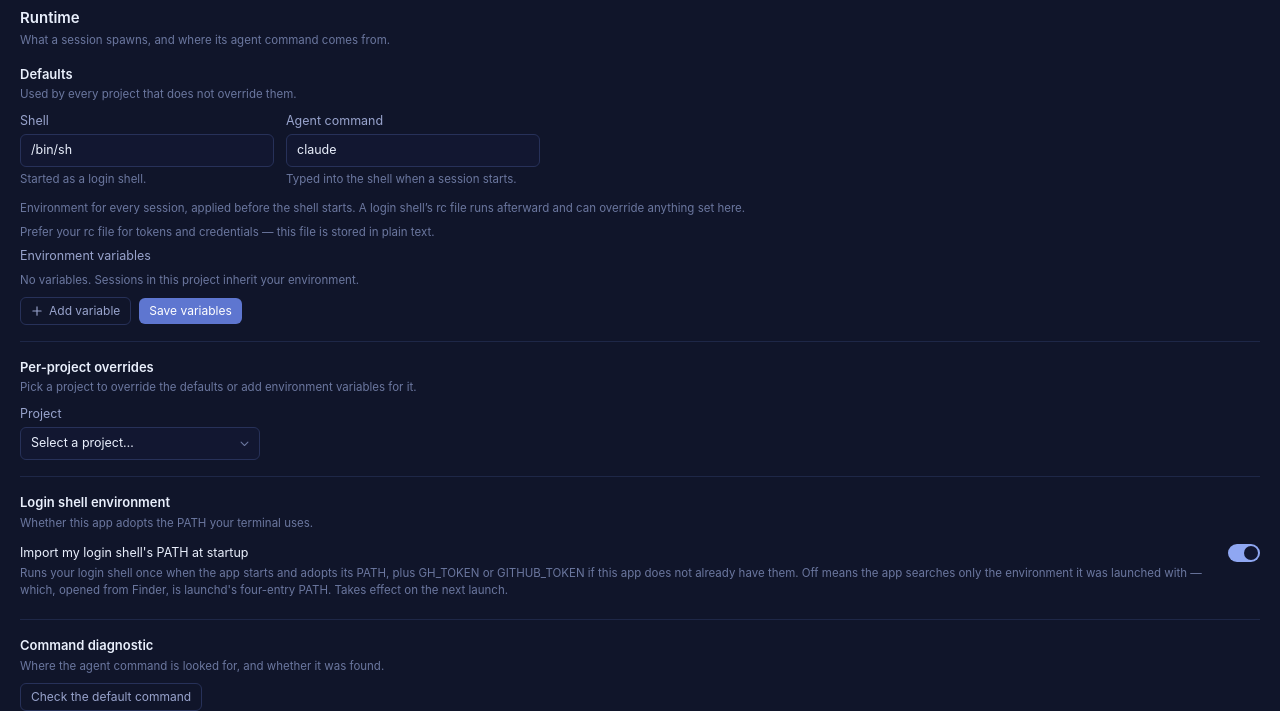
it: RuntimeSection — diagnostic › drops a stale verdict when the project changes
The image size is (1280, 711).
Select "a" in the dropdown labelled "Project" at (140, 444), box x1=20 y1=427 x2=260 y2=460
(page scrolled)
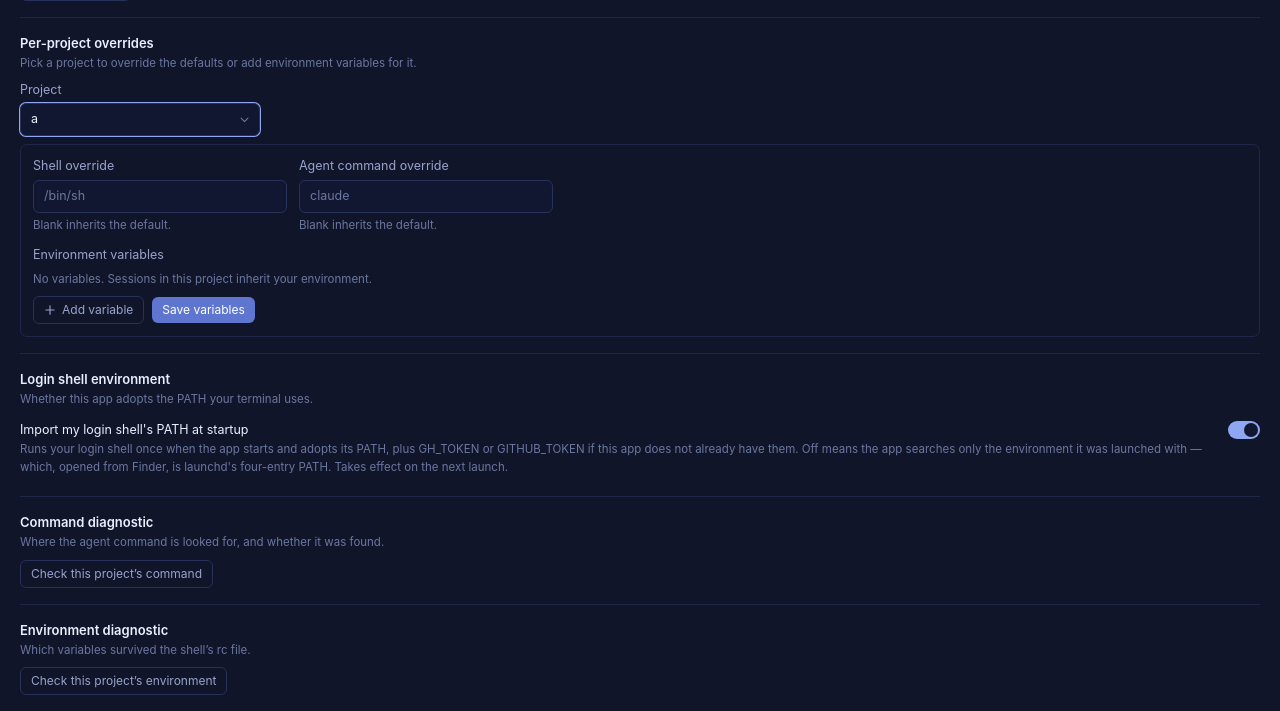
Click the button "Check this project’s command".
click(116, 574)  # box x1=20 y1=560 x2=213 y2=588
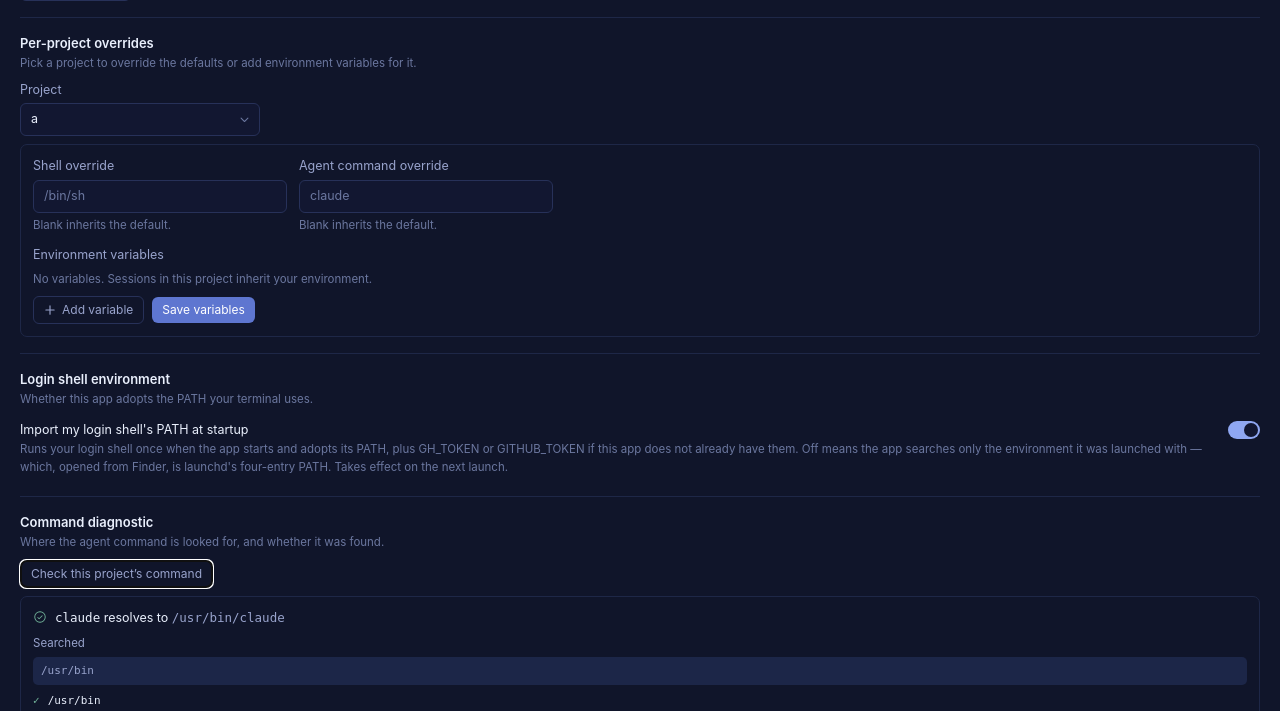
Now the text "/usr/bin/claude" is shown, box x1=172 y1=610 x2=285 y2=624
Select "b" in the dropdown labelled "Project" at (140, 120), box x1=20 y1=103 x2=260 y2=136
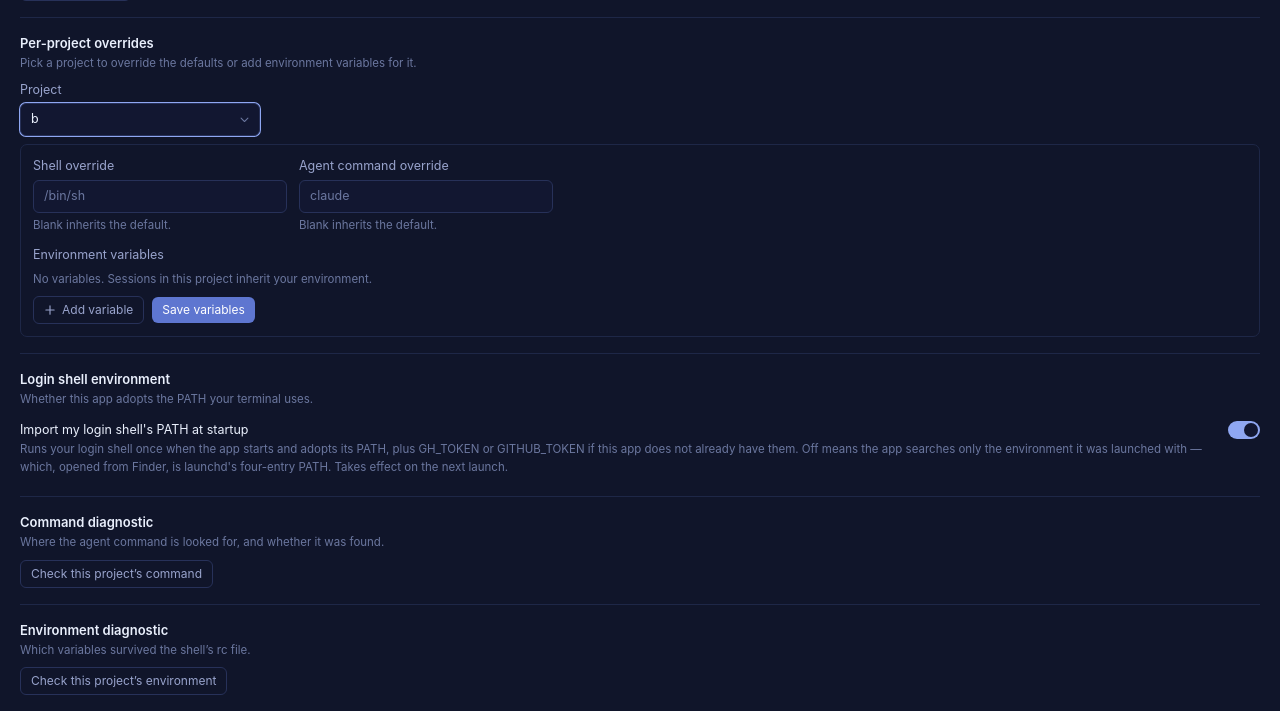
Now the text "/usr/bin/claude" is gone
